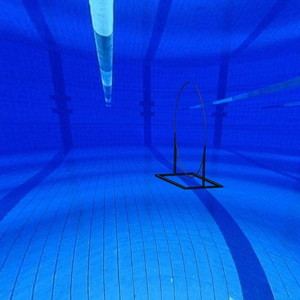circle: (154, 81, 224, 192)
